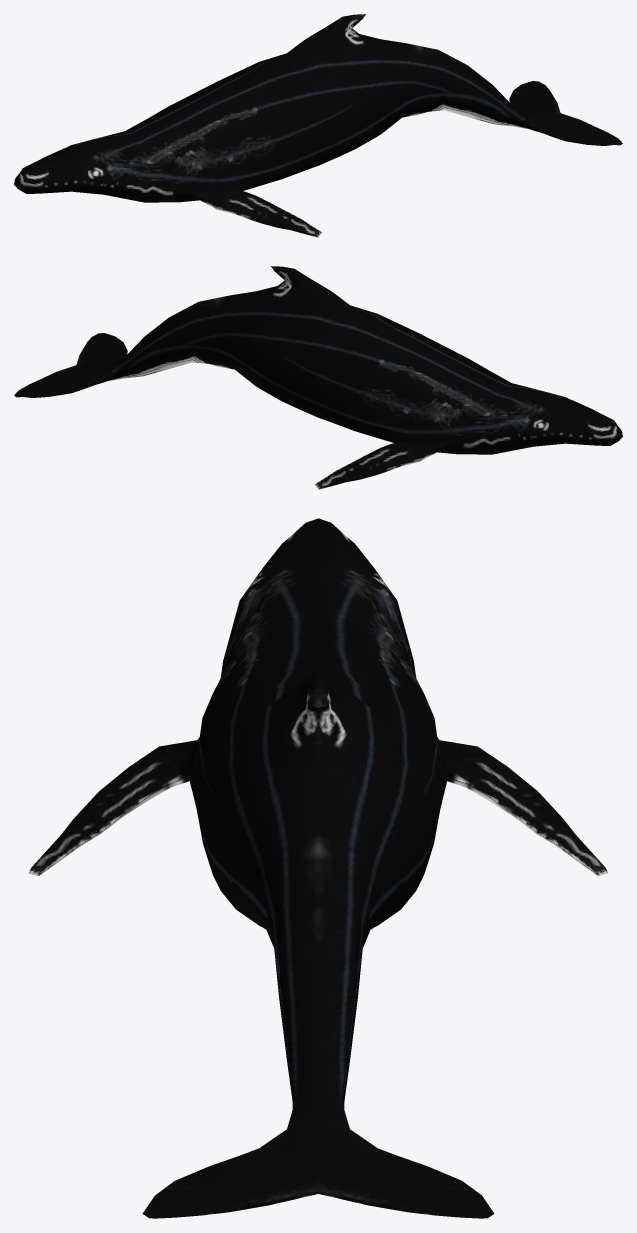
Rendered from entity15306.gltf.
3 renders of one model, top to bottom at view 1: azimuth 30°, elevation 25°; view 2: azimuth 150°, elevation 25°; view 3: azimuth 270°, elevation 25°, orthographic. The views are drawn at different scales.
Visible parts, largest first — view 1: node_Exhibit_Whale_Art; view 2: node_Exhibit_Whale_Art; view 3: node_Exhibit_Whale_Art.
Part boxes in pixels (x1,y1,x2,y2): node_Exhibit_Whale_Art: [14, 14, 622, 237]; node_Exhibit_Whale_Art: [14, 266, 622, 489]; node_Exhibit_Whale_Art: [29, 518, 607, 1218].
Size of what is drawn, in the model's own units: 32.61 by 8.51 by 14.45.
1 material, 1 textured.
